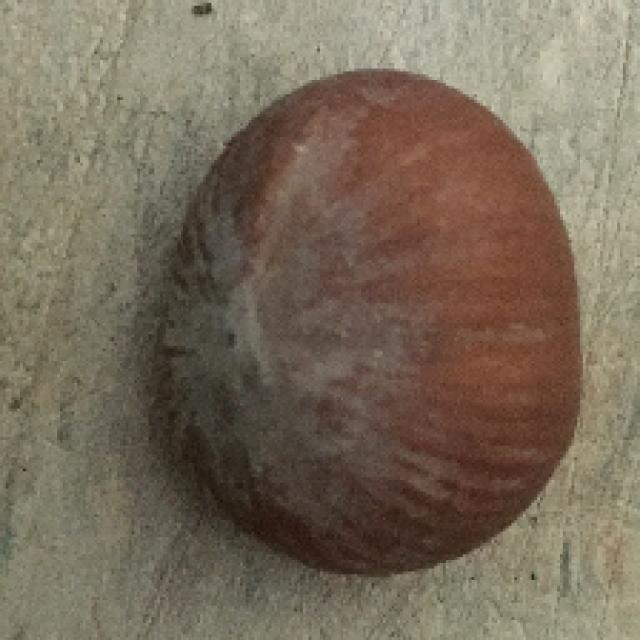qualityHazelnut: (143, 69, 591, 576)
